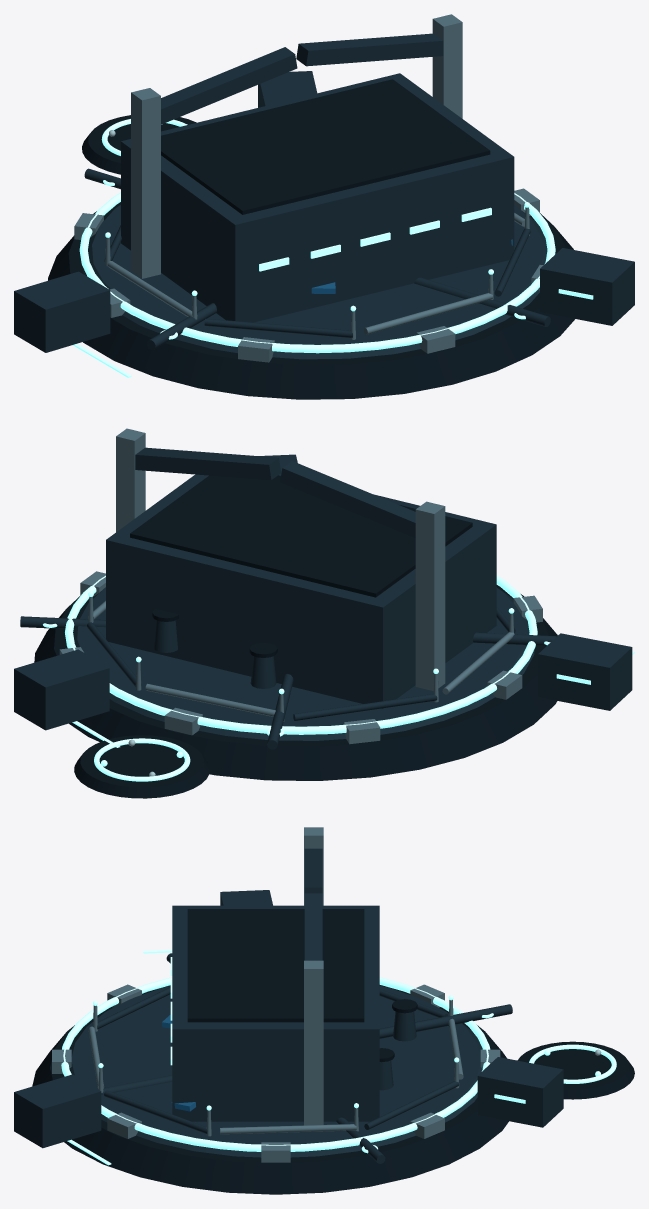
Rendered from roboticsFactory-stage2.glb.
The picture shows the model from 3 angles, top to bottom: view 1: azimuth 30°, elevation 25°; view 2: azimuth 150°, elevation 25°; view 3: azimuth 270°, elevation 25°; orthographic projection. The views are drawn at different scales.
Parts seen in each view (by area): view 1: assembly-hall, factory-roof, armored-foundation, upper-deck, crane-tower (×2), crane-arm (×2), industrial-annex-1, industrial-annex-0, perimeter-light, landing-pad, industrial-annex-2, service-catwalk-2 (+7 smaller); view 2: assembly-hall, factory-roof, armored-foundation, upper-deck, crane-tower (×2), crane-arm (×2), industrial-annex-2, industrial-annex-1, landing-pad, perimeter-light, landing-guidance-light, service-catwalk-4 (+11 smaller); view 3: assembly-hall, upper-deck, factory-roof, armored-foundation, industrial-annex-0, industrial-annex-2, perimeter-light, crane-tower (×2), landing-pad, crane-arm (×2), utility-conduit-2, service-catwalk-7 (+9 smaller).
Part boxes in pixels (x1=…): assembly-hall: x1=121, y1=73, x2=514, y2=322; factory-roof: x1=161, y1=79, x2=490, y2=214; armored-foundation: x1=48, y1=202, x2=574, y2=399; upper-deck: x1=82, y1=204, x2=547, y2=359; crane-tower (×2): x1=131, y1=14, x2=462, y2=278; crane-arm (×2): x1=161, y1=33, x2=443, y2=124; industrial-annex-1: x1=14, y1=271, x2=110, y2=352; industrial-annex-0: x1=540, y1=248, x2=634, y2=325; perimeter-light: x1=79, y1=192, x2=555, y2=353; landing-pad: x1=82, y1=115, x2=196, y2=174; industrial-annex-2: x1=258, y1=71, x2=317, y2=107; service-catwalk-2: x1=204, y1=318, x2=352, y2=337; assembly-hall: x1=106, y1=472, x2=496, y2=708; factory-roof: x1=130, y1=475, x2=472, y2=597; armored-foundation: x1=34, y1=585, x2=557, y2=780; upper-deck: x1=67, y1=587, x2=534, y2=740; crane-tower (×2): x1=116, y1=428, x2=445, y2=690; crane-arm (×2): x1=135, y1=447, x2=415, y2=537; industrial-annex-2: x1=14, y1=649, x2=109, y2=730; industrial-annex-1: x1=538, y1=633, x2=632, y2=710; landing-pad: x1=74, y1=735, x2=209, y2=798; perimeter-light: x1=65, y1=575, x2=537, y2=734; landing-guidance-light: x1=94, y1=738, x2=190, y2=781; service-catwalk-4: x1=293, y1=694, x2=437, y2=720; assembly-hall: x1=172, y1=905, x2=379, y2=1121; upper-deck: x1=63, y1=985, x2=482, y2=1157; factory-roof: x1=187, y1=909, x2=364, y2=1022; armored-foundation: x1=32, y1=985, x2=508, y2=1194; industrial-annex-0: x1=14, y1=1074, x2=101, y2=1148; industrial-annex-2: x1=477, y1=1057, x2=563, y2=1127; perimeter-light: x1=61, y1=977, x2=490, y2=1151; crane-tower (×2): x1=304, y1=827, x2=323, y2=1125; landing-pad: x1=517, y1=1041, x2=634, y2=1099; crane-arm (×2): x1=304, y1=848, x2=322, y2=960; utility-conduit-2: x1=379, y1=1004, x2=512, y2=1038; service-catwalk-7: x1=220, y1=1124, x2=356, y2=1134.
Size of the model in its own units: 11.18 by 4.37 by 12.26.
